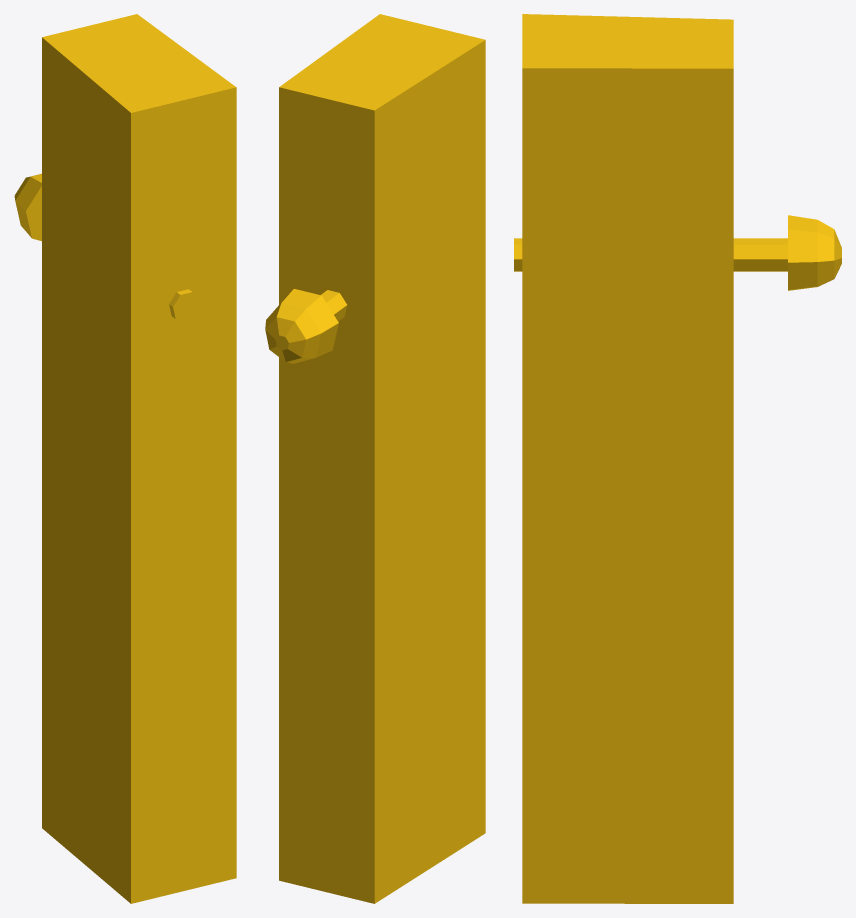
The model's file is key_top_bar.obj.
The picture shows the model from 3 angles, left to right: view 1: azimuth 30°, elevation 25°; view 2: azimuth 150°, elevation 25°; view 3: azimuth 270°, elevation 25°; orthographic projection. The views are drawn at different scales.
Visible parts, largest first — view 1: white_keys.002_Cube.002; view 2: white_keys.002_Cube.002; view 3: white_keys.002_Cube.002.
Part boxes in pixels (<box>): white_keys.002_Cube.002: <box>14,14,236,903</box>; white_keys.002_Cube.002: <box>265,14,485,903</box>; white_keys.002_Cube.002: <box>514,14,841,903</box>.
Size of the model in its own units: 0.00677 by 0.0482 by 0.0171.
